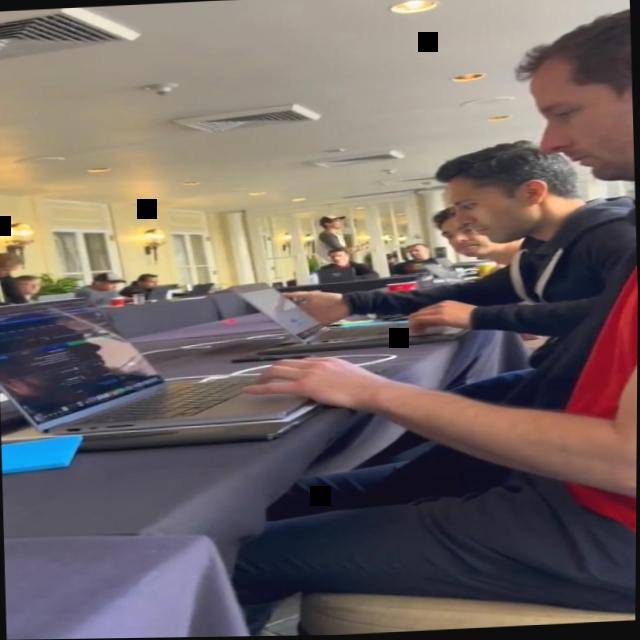NO-Mask: (529, 60, 635, 187), (447, 176, 535, 248), (440, 216, 503, 258), (18, 277, 40, 295), (328, 249, 348, 267), (408, 246, 427, 261), (0, 261, 16, 276), (141, 276, 159, 289), (100, 281, 119, 292), (332, 218, 345, 231)
